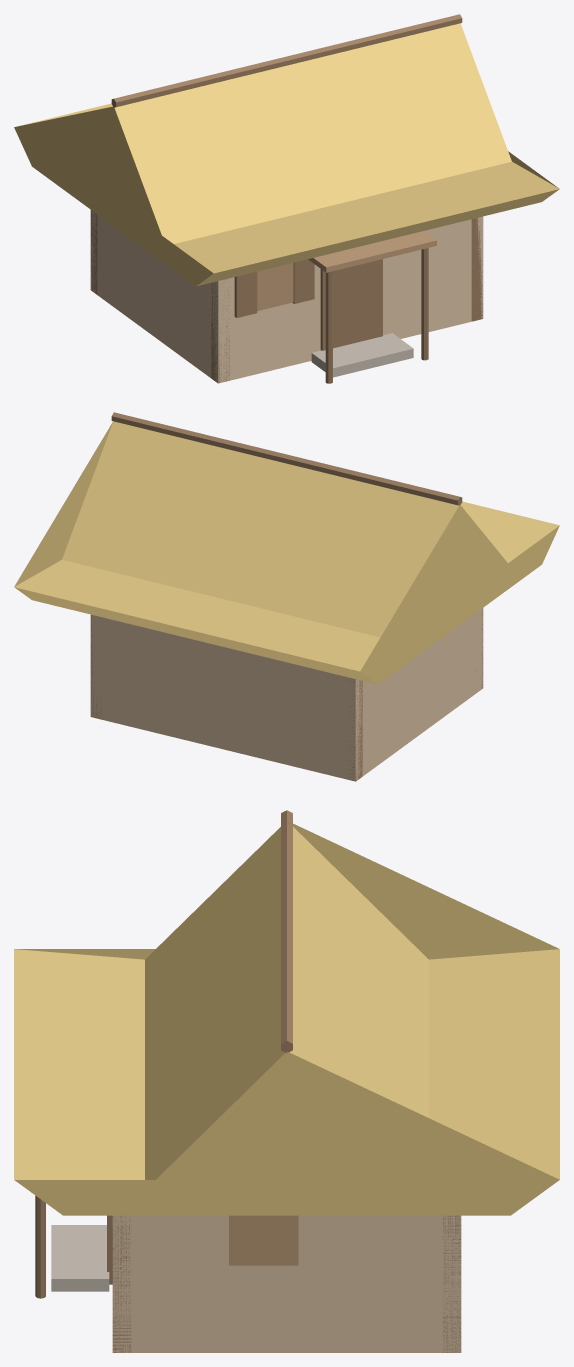
Rendered from house.glb.
3 renders of one model, top to bottom at view 1: azimuth 30°, elevation 25°; view 2: azimuth 150°, elevation 25°; view 3: azimuth 270°, elevation 25°, orthographic. The views are drawn at different scales.
Parts seen in each view (by area): view 1: roof, walls, door, ridge, door_step, porch_roof, window_f, post_1_1, shutter_l, shutter_r, porch_post_1, porch_post_-1 (+2 smaller); view 2: roof, walls, ridge, post_-1_-1; view 3: roof, walls, door_step, window_side, ridge, post_1_1, post_1_-1, porch_post_1.
Boxes of the visible parts, bbox=[...] form: roof: bbox=[14, 23, 559, 286]; walls: bbox=[90, 210, 483, 383]; door: bbox=[320, 259, 382, 350]; ridge: bbox=[111, 14, 462, 107]; door_step: bbox=[311, 333, 413, 377]; porch_roof: bbox=[308, 231, 436, 272]; window_f: bbox=[257, 262, 293, 310]; post_1_1: bbox=[471, 218, 482, 321]; shutter_l: bbox=[234, 271, 257, 317]; shutter_r: bbox=[292, 259, 314, 303]; porch_post_1: bbox=[421, 248, 428, 360]; porch_post_-1: bbox=[325, 271, 332, 383]; roof: bbox=[14, 421, 559, 684]; walls: bbox=[90, 608, 483, 781]; ridge: bbox=[111, 412, 462, 505]; post_-1_-1: bbox=[344, 680, 362, 781]; roof: bbox=[14, 823, 559, 1215]; walls: bbox=[112, 1215, 461, 1352]; door_step: bbox=[51, 1225, 109, 1291]; window_side: bbox=[229, 1215, 298, 1265]; ridge: bbox=[281, 810, 292, 1052]; post_1_1: bbox=[112, 1216, 131, 1352]; post_1_-1: bbox=[442, 1215, 461, 1352]; porch_post_1: bbox=[35, 1195, 45, 1298].
Bounding box in the file's own units: 4.67 × 3.2 × 4.67.
